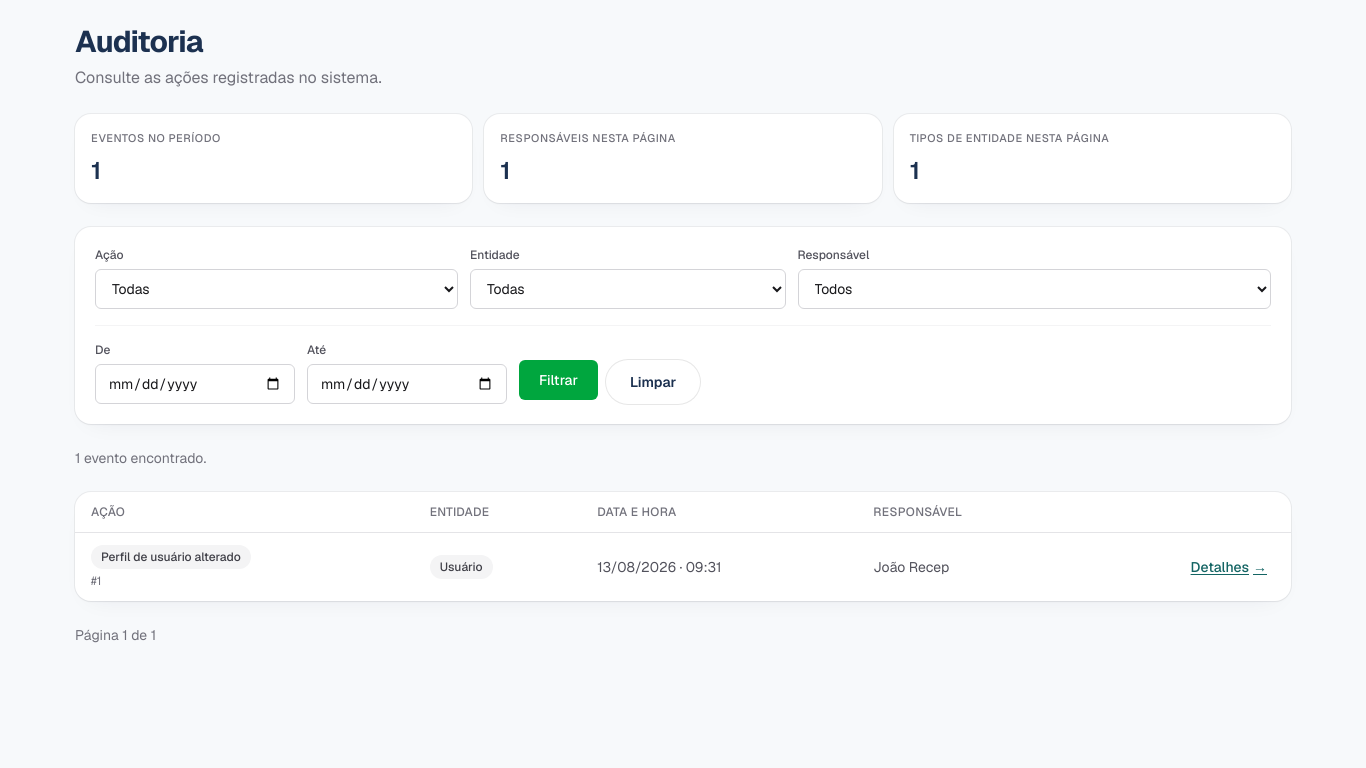
Test: AuditoriaView — detalhes do evento › fecha por Escape
Click the button "Detalhes →" at (1229, 566), box top-left (1183, 552), bottom-right (1275, 580)
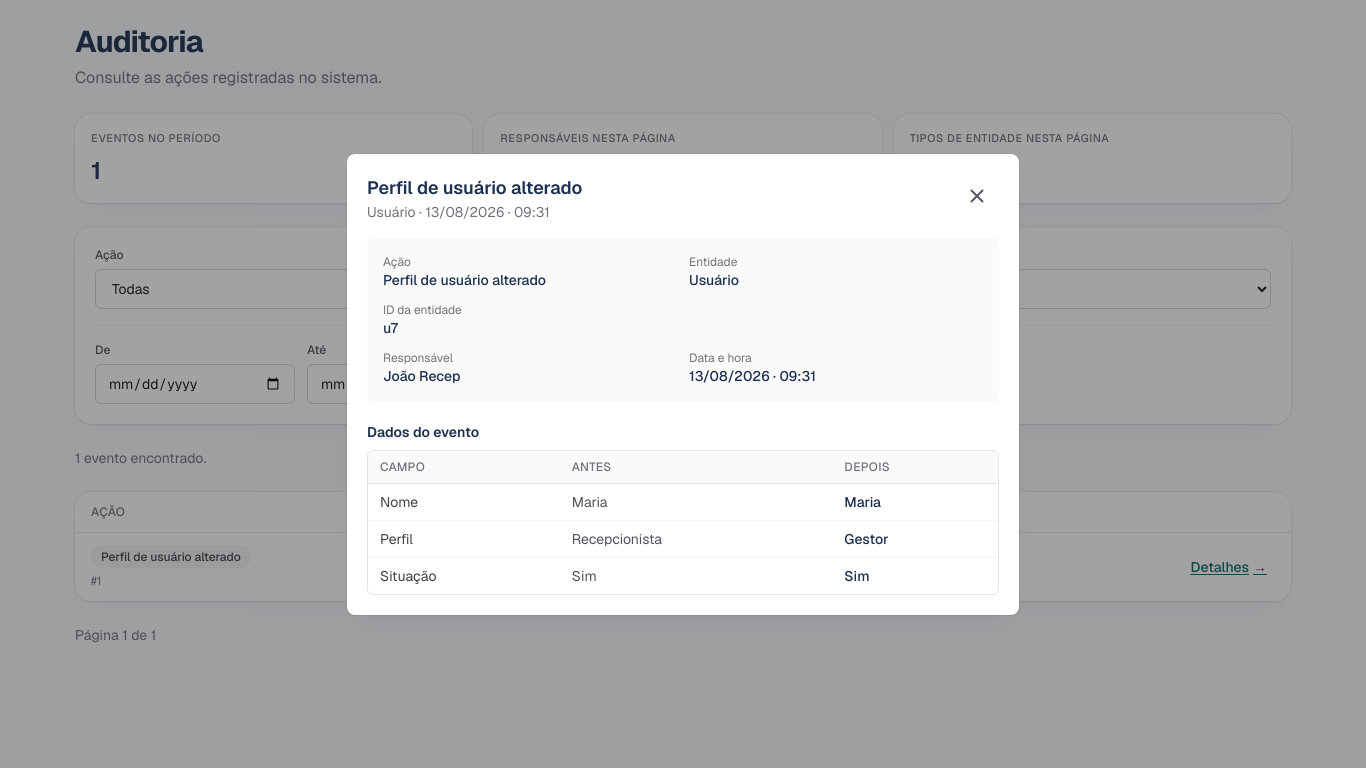
Expected: the dialog is shown, top-left (347, 154), bottom-right (1019, 614)
Press Escape
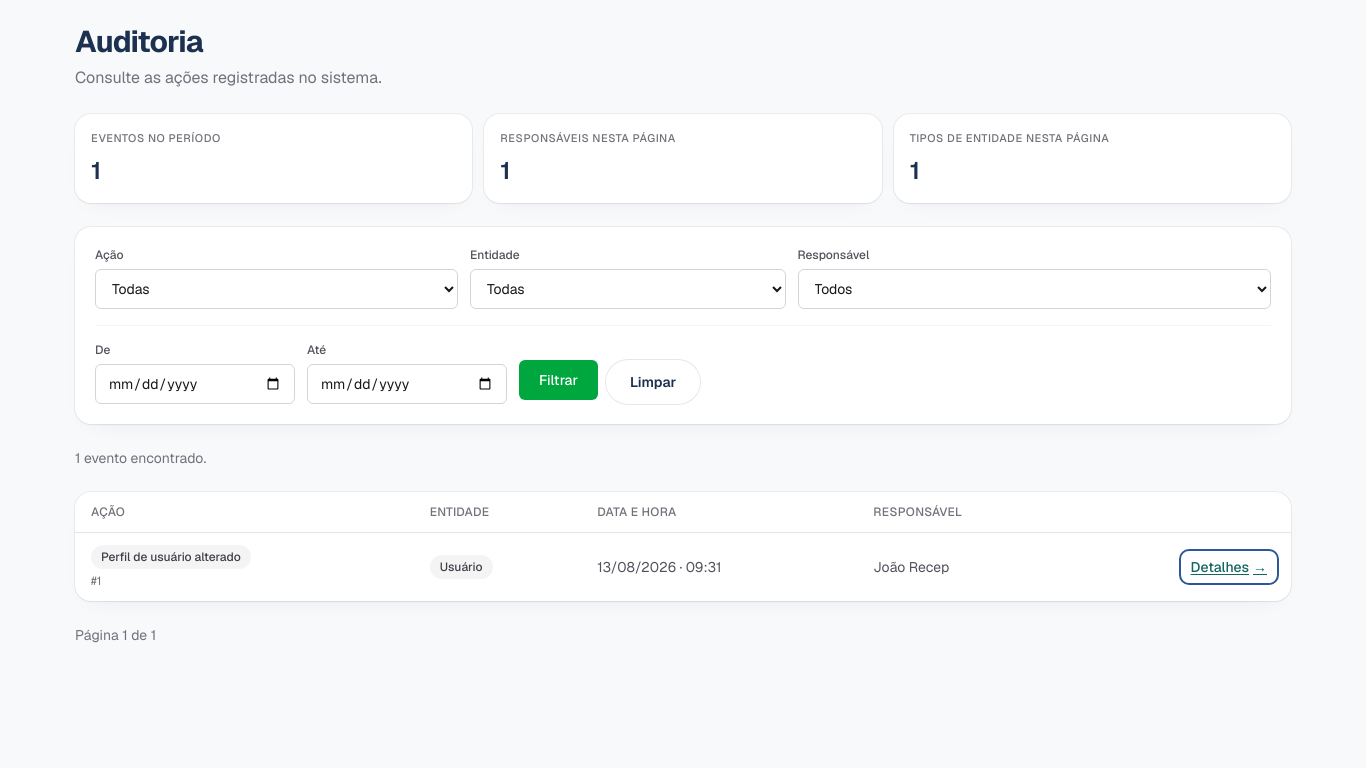
Expected: the dialog is gone
